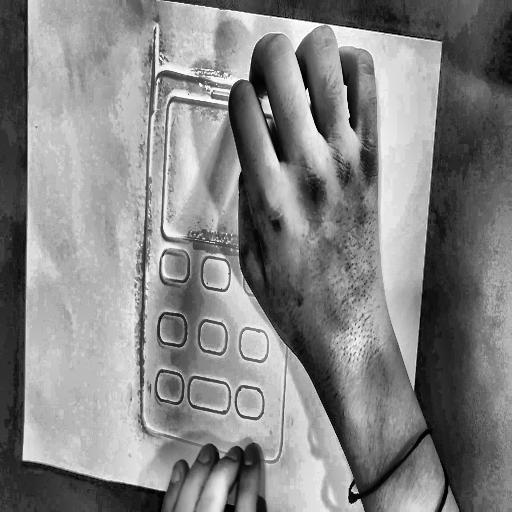bottom_left: (19, 453, 27, 466)
mobile: (134, 13, 314, 474)
top_right: (438, 37, 447, 52)
